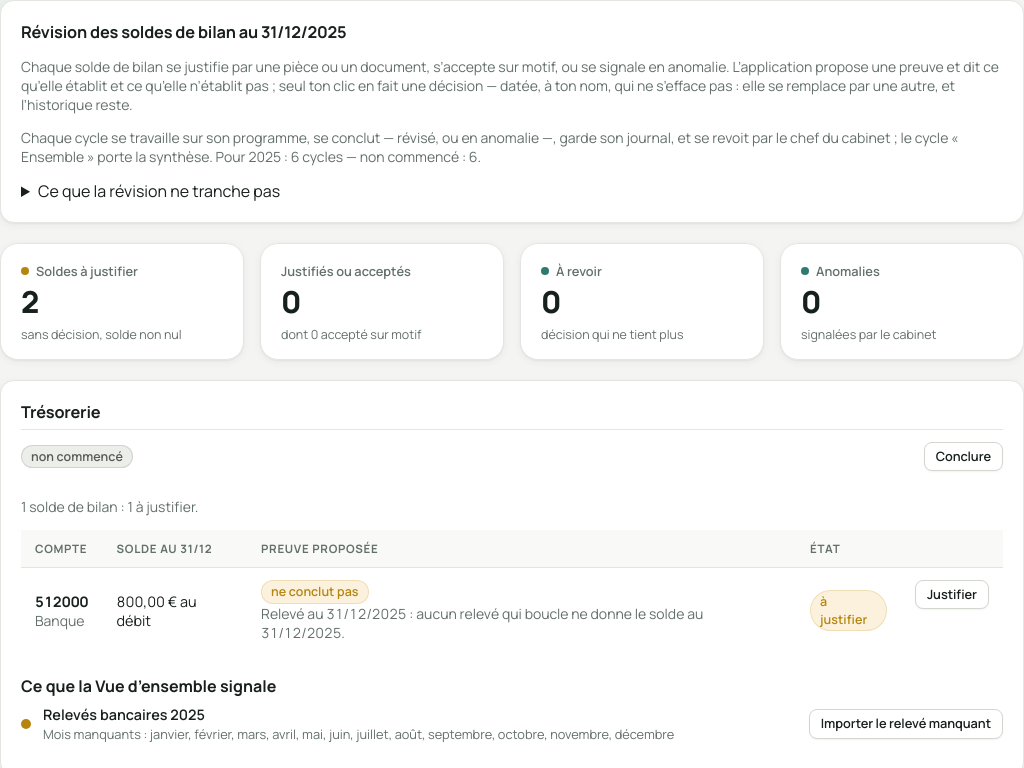
RevisionTab — décider d’un solde › la preuve se dit — ce qu’elle établit et n’établit pas —, et les refus se lisent avant le clic, boutons grisés
What coordinates should you click on to do the following:
click the button with aria-label "Ouvrir le compte 512000"
I would click on:
 (952, 595)
Its box is [915,580,989,609].
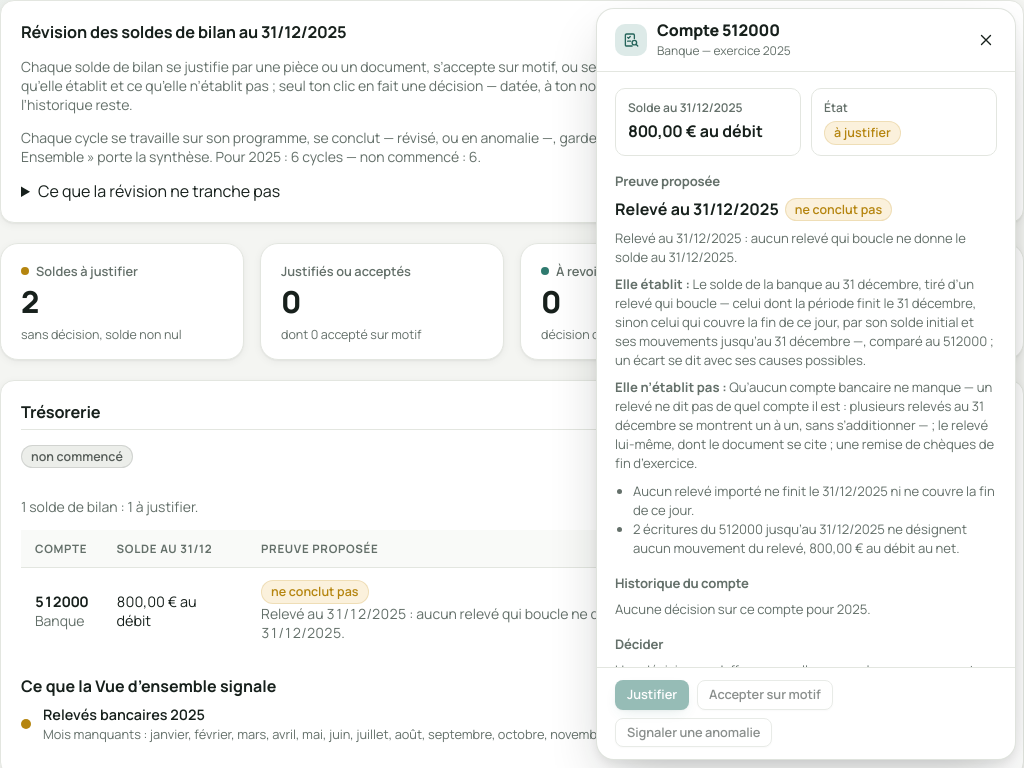
Result: the button "Justifier" is disabled at [615,680,689,710]
Result: the button "Accepter sur motif" is disabled at [697,680,833,710]
Result: the button "Signaler une anomalie" is disabled at [615,718,772,747]
